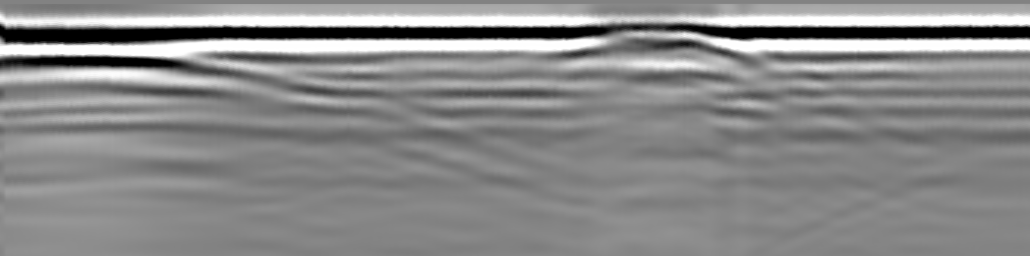pipe: (562, 23, 750, 58)
